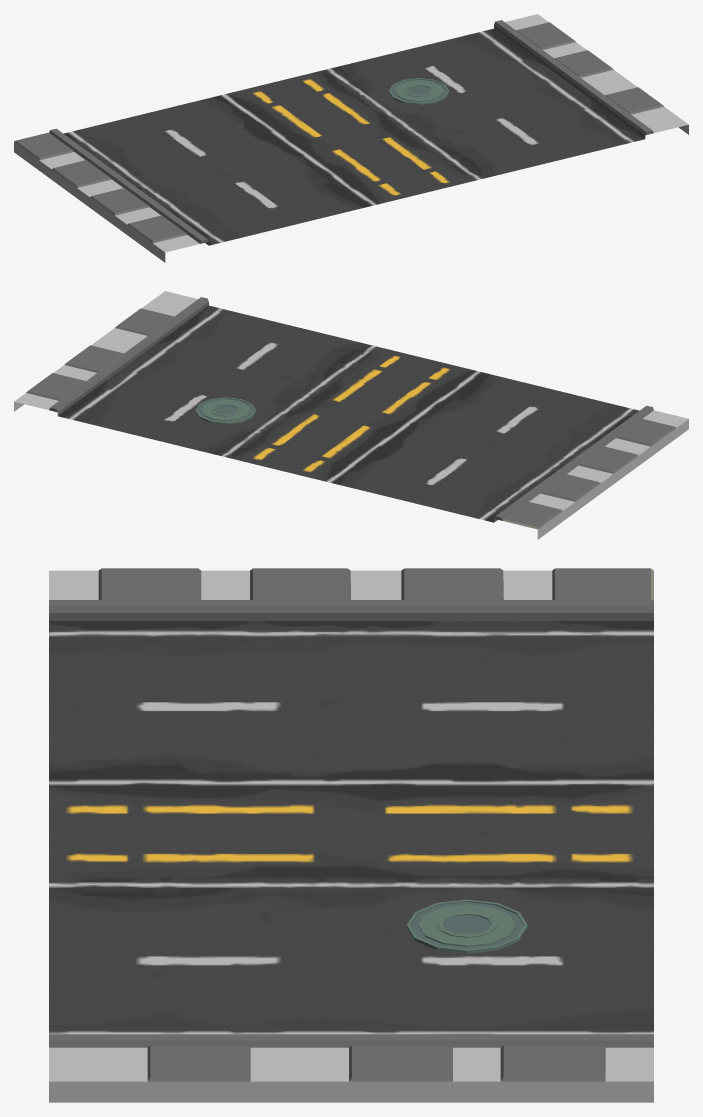
File: Highway_Straigh 03.fbx
The picture shows the model from 3 angles, top to bottom: view 1: azimuth 30°, elevation 25°; view 2: azimuth 150°, elevation 25°; view 3: azimuth 270°, elevation 25°; orthographic projection. The views are drawn at different scales.
Parts seen in each view (by area): view 1: Highway_Straigh 03; view 2: Highway_Straigh 03; view 3: Highway_Straigh 03.
Part boxes in pixels (left/top/right/bottom): Highway_Straigh 03: left=14, top=14, right=688, bottom=262; Highway_Straigh 03: left=14, top=291, right=688, bottom=539; Highway_Straigh 03: left=49, top=568, right=653, bottom=1102.
Bounding box in the file's own units: 2400 × 58.25 × 1200.
